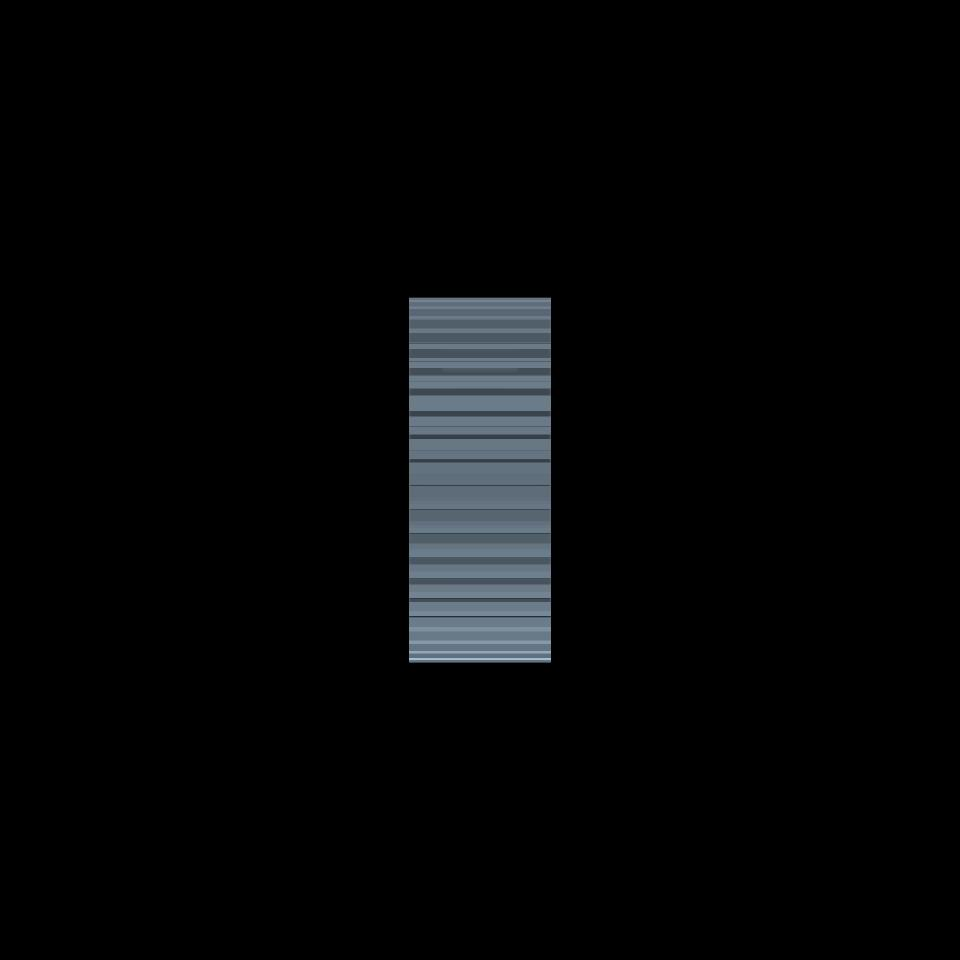Straight: (409, 297, 551, 662)
